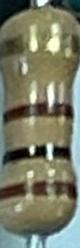Black: (3, 141, 71, 165)
Brown: (3, 100, 73, 126), (1, 178, 77, 200)
Side-Gold: (0, 29, 80, 62)
